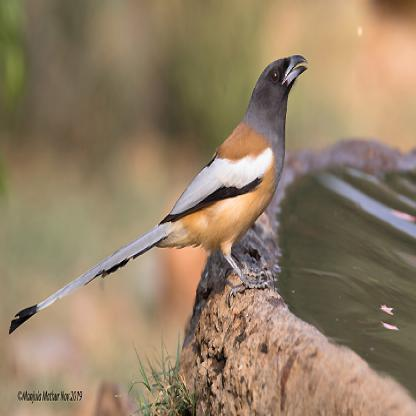Burung: (9, 54, 307, 334)
